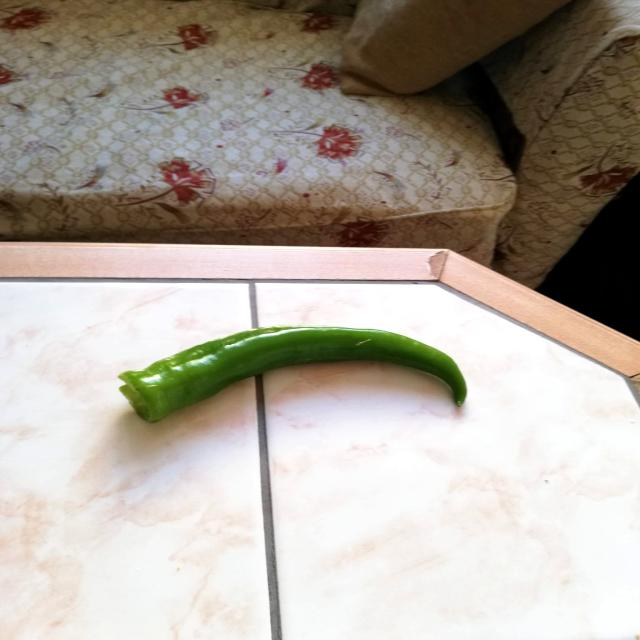green pepper: (114, 319, 474, 426)
